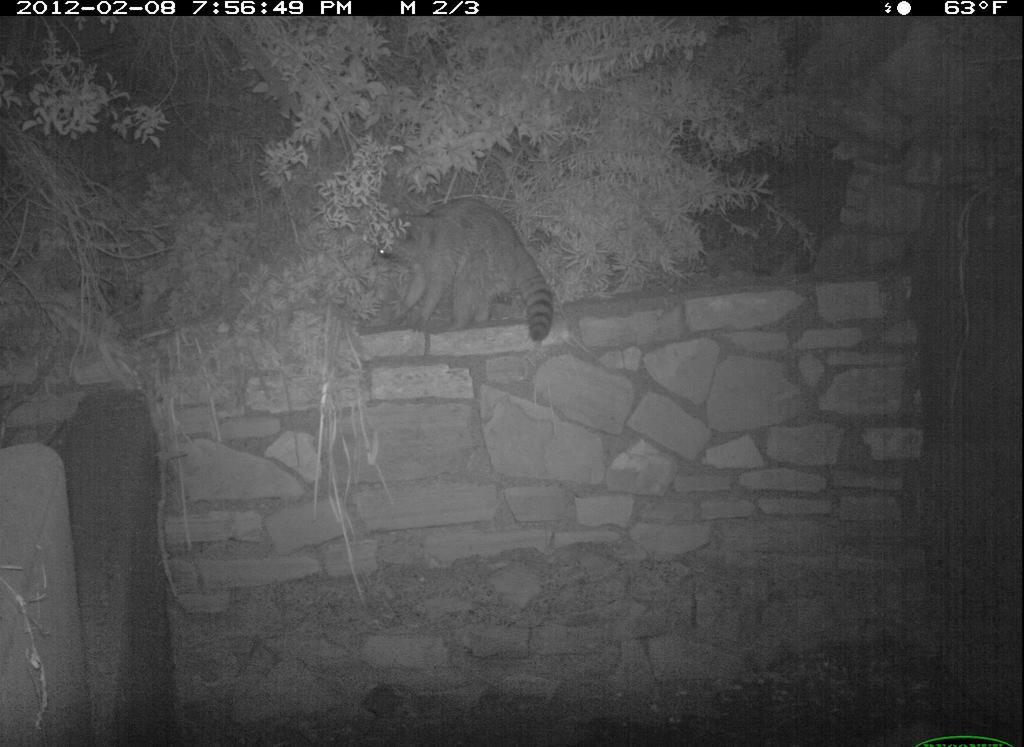raccoon: (365, 195, 568, 349)
